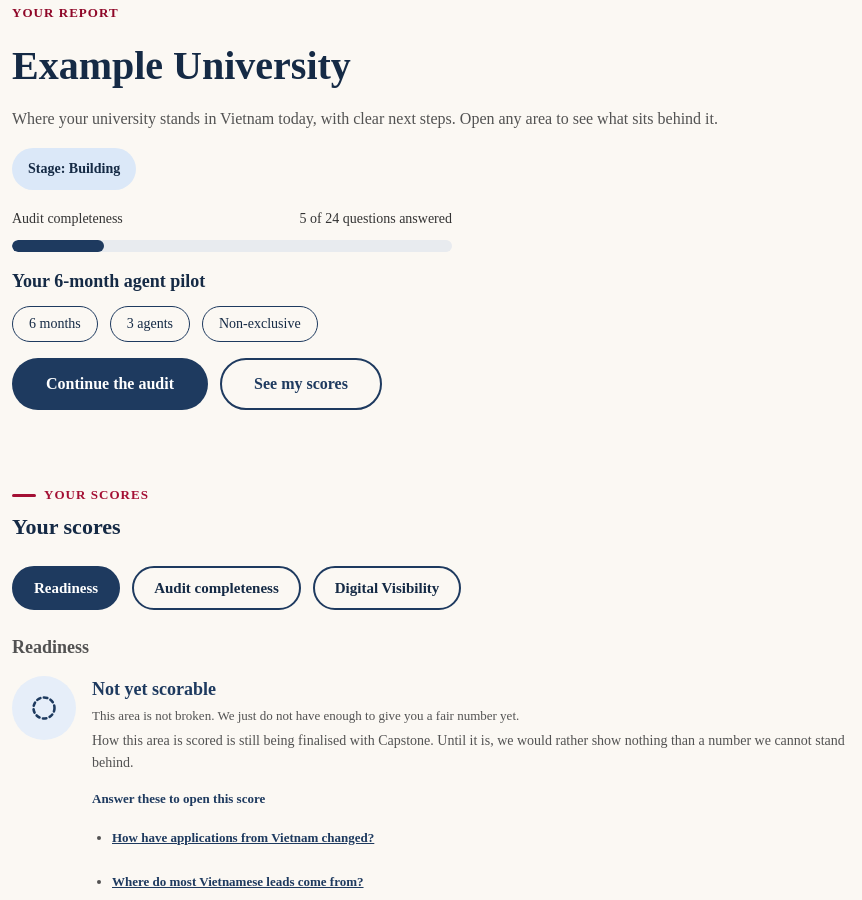
ReportSection: areas that cannot be scored › interactive: a score that cannot be read says Not yet scorable and never a number
The image size is (862, 900).
Click the radio button labelled "Readiness".
click(66, 588)  # box [12, 566, 120, 610]
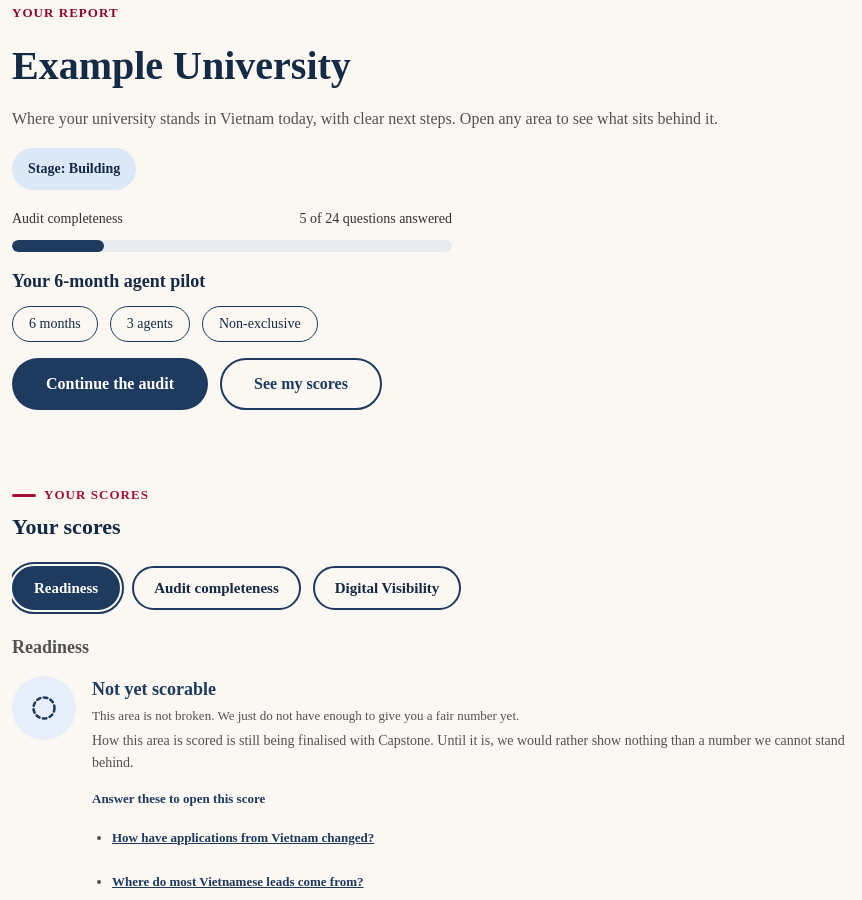
Check: the heading "Not yet scorable" is shown, box [92, 679, 216, 699]
Check: the text "%" is not shown
Click the radio button labelled "Digital Visibility".
click(387, 588)  # box [313, 566, 461, 610]
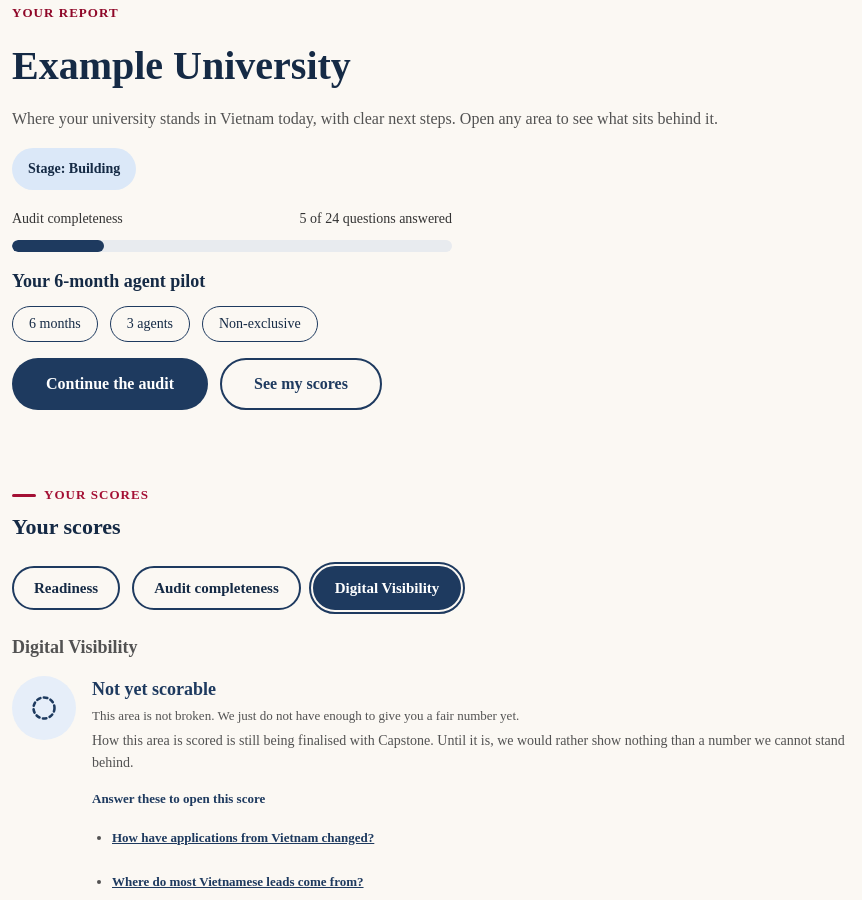
Check: the heading "Not yet scorable" is shown, box [92, 679, 216, 699]
Check: the text "%" is not shown
Click the radio button labelled "Audit completeness".
click(216, 588)  # box [132, 566, 301, 610]
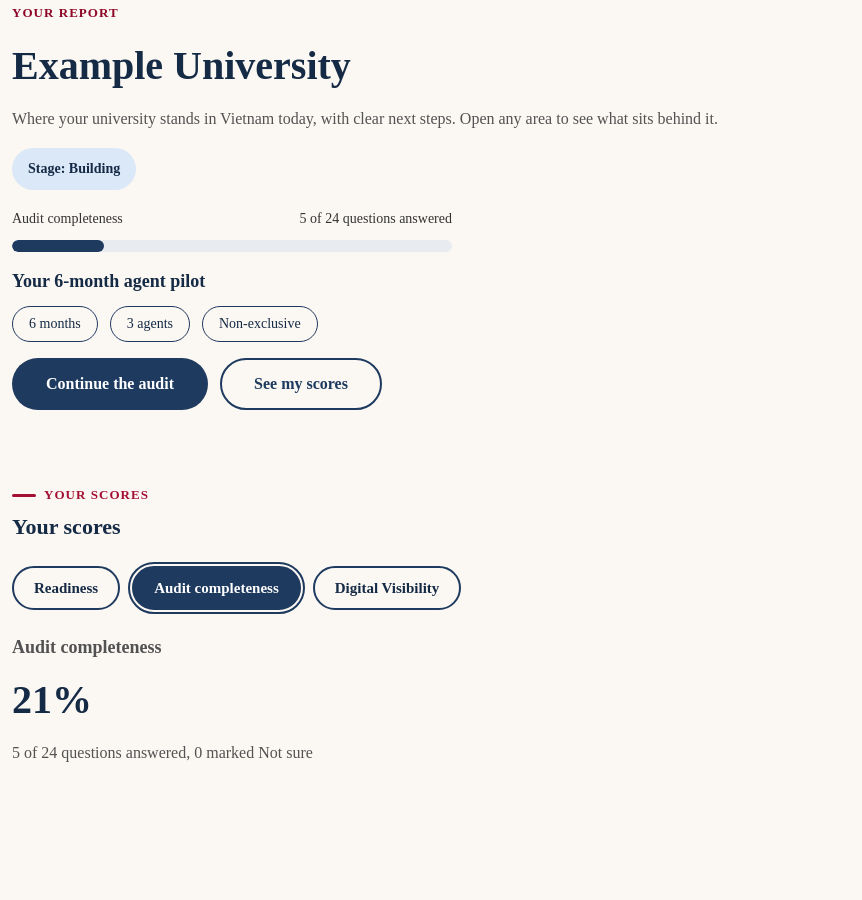
Check: the text "21%" is shown, box [12, 676, 92, 724]
